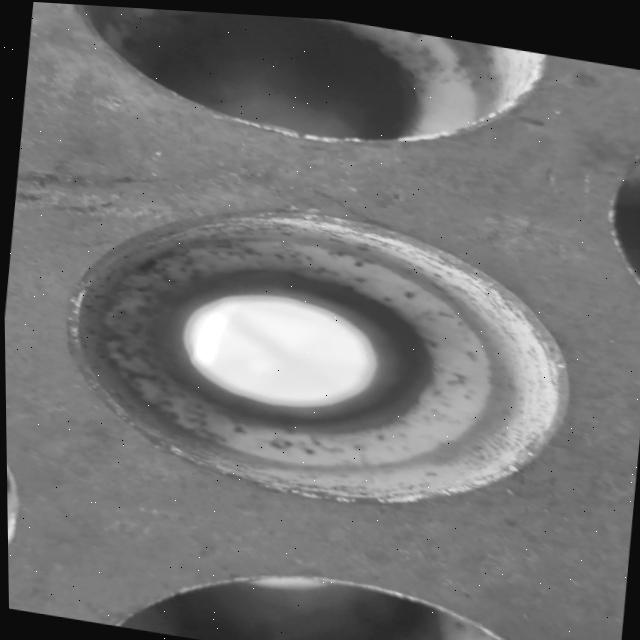Hole: (46, 170, 640, 541), (51, 2, 543, 168), (67, 535, 620, 640)
